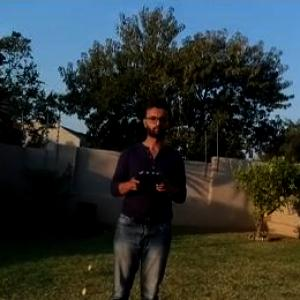follow: (102, 93, 195, 299)
